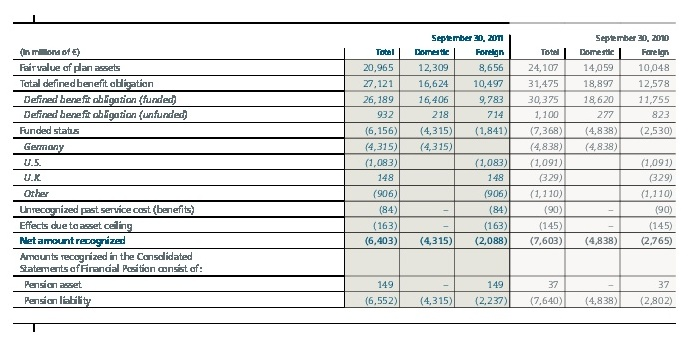table: (0, 0, 691, 347)
